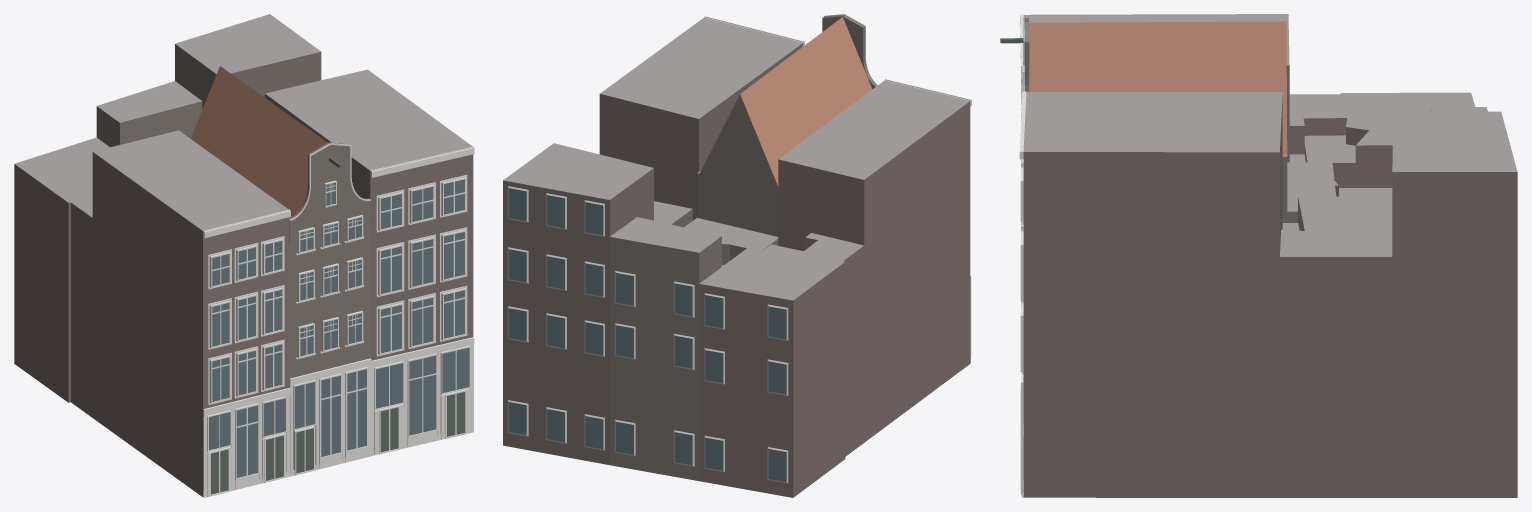
The model's file is chunk-face-kloveniersburgwal-5-21-h2.glb.
3 views of the same model, side by side, from view 1: azimuth 30°, elevation 25°; view 2: azimuth 150°, elevation 25°; view 3: azimuth 270°, elevation 25° (orthographic). The views are drawn at different scales.
Parts seen in each view (by area): view 1: face-kloveniersburgwal-5-21-h2; view 2: face-kloveniersburgwal-5-21-h2; view 3: face-kloveniersburgwal-5-21-h2.
Boxes of the visible parts, x1,y1,x2,y2 form: face-kloveniersburgwal-5-21-h2: (14,14,474,497); face-kloveniersburgwal-5-21-h2: (503,14,971,497); face-kloveniersburgwal-5-21-h2: (1000,14,1517,497).
Size of the model in its own units: 17.02 by 19.12 by 22.85.
